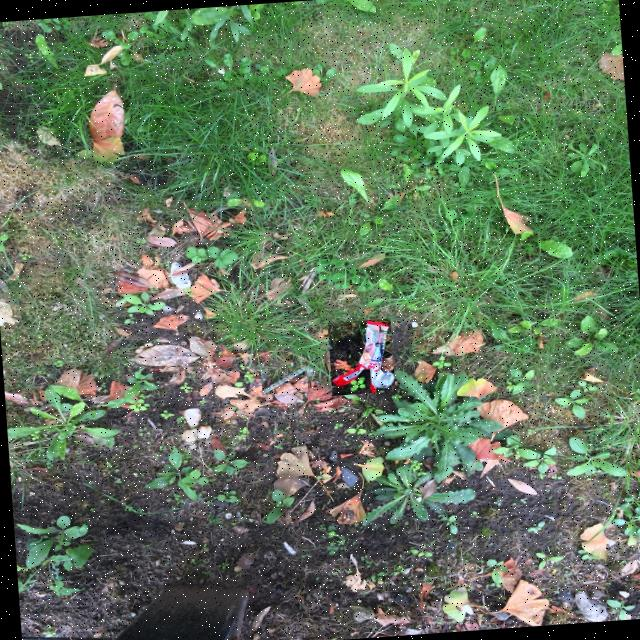Other plastic: (331, 320, 394, 393)
Plastic film: (263, 368, 306, 394)
